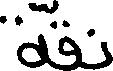X: (0, 0, 46, 70), (59, 15, 80, 70), (102, 37, 112, 70)
